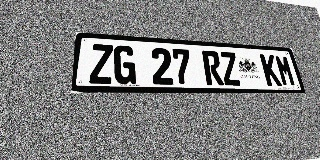2: (151, 47, 173, 85)
7: (171, 49, 193, 85)
G: (114, 45, 136, 84)
K: (259, 54, 282, 86)
M: (274, 55, 297, 86)
R: (202, 50, 224, 85)
Z: (89, 44, 113, 84), (219, 51, 242, 86)
